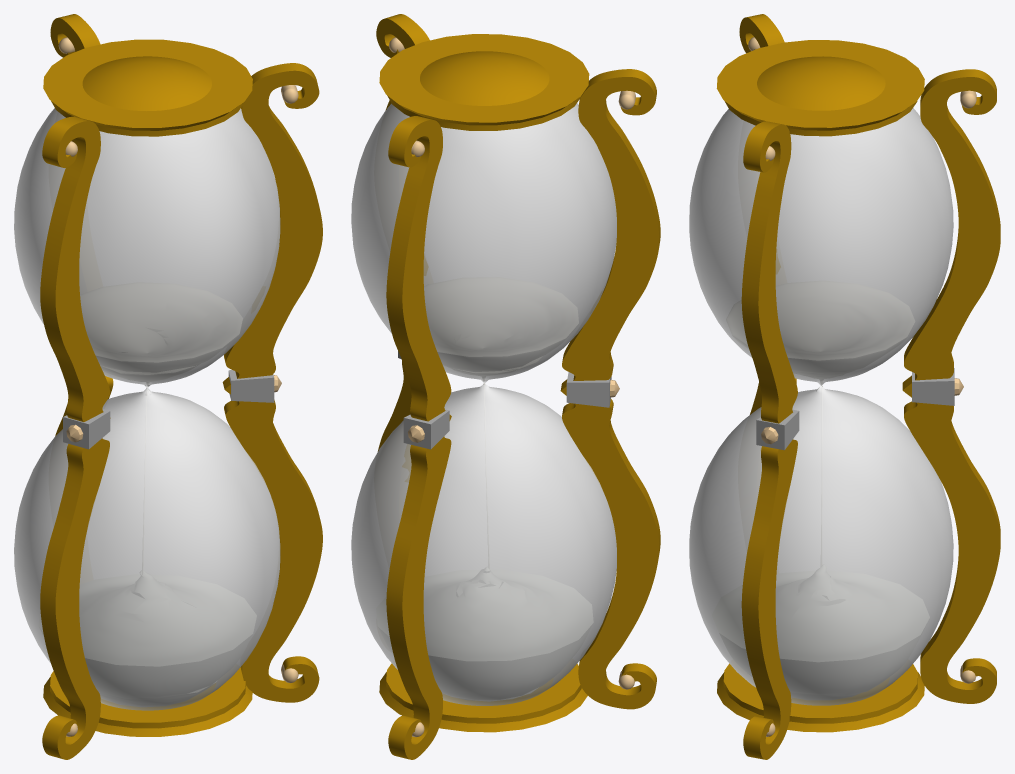
File: Hourglass.fbx
3 views of the same model, side by side, from view 1: azimuth 30°, elevation 25°; view 2: azimuth 150°, elevation 25°; view 3: azimuth 270°, elevation 25° (orthographic).
Visible parts, largest first — view 1: cap_0; view 2: cap_0; view 3: cap_0.
Part boxes in pixels (bbox=[...]): cap_0: bbox=[14, 14, 322, 759]; cap_0: bbox=[351, 14, 660, 759]; cap_0: bbox=[689, 14, 1000, 759].
Bounding box in the file's own units: 10643 × 22731 × 10228.
